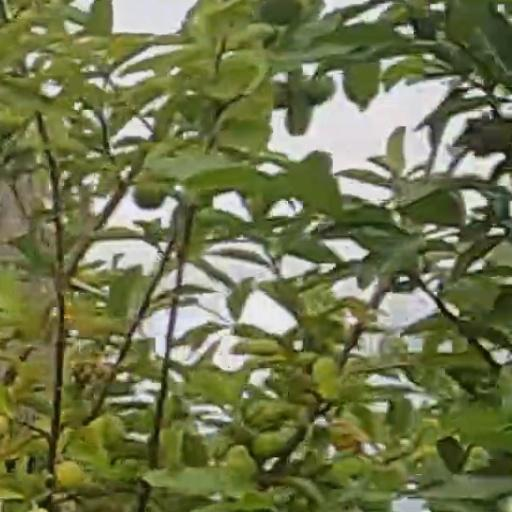acerola_verde: (252, 433, 286, 459), (137, 188, 165, 206)
